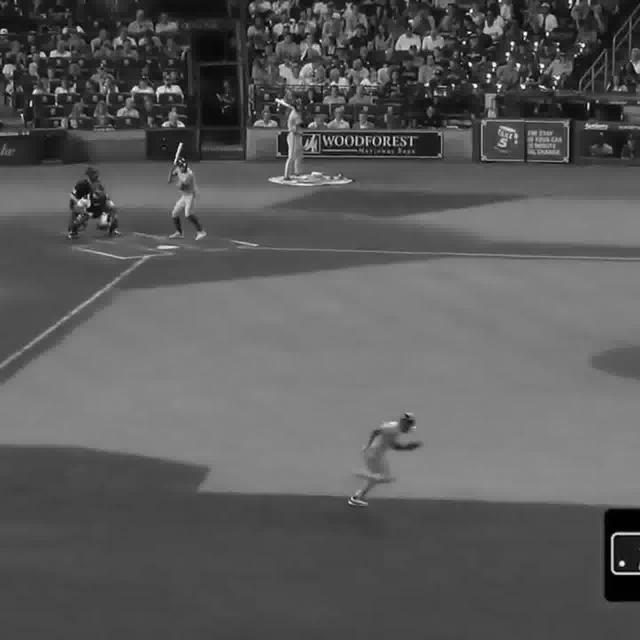base: (155, 244, 175, 252)
bat: (270, 92, 308, 118), (166, 136, 186, 183)
shoe: (346, 496, 373, 506), (196, 231, 207, 242), (107, 231, 120, 238), (67, 232, 78, 240), (170, 232, 183, 238)
